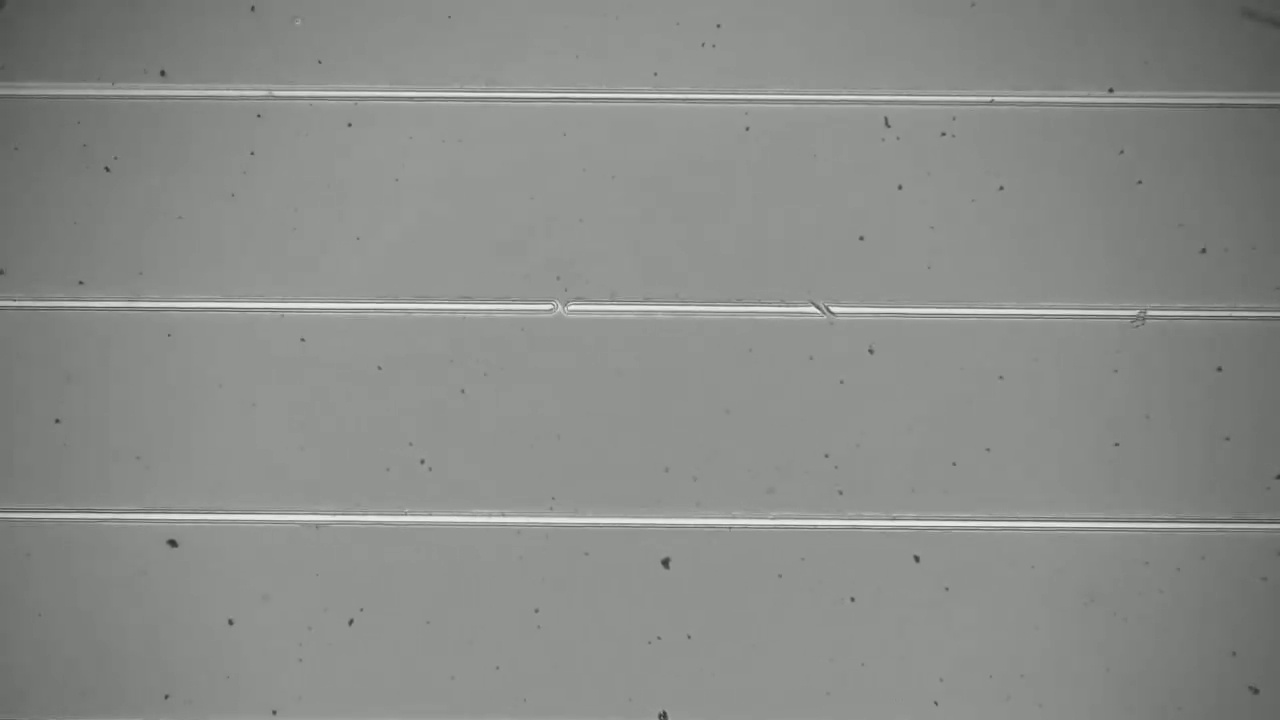open: (534, 287, 585, 329), (802, 293, 846, 325)
stains_enbedded: (1121, 295, 1155, 336)
